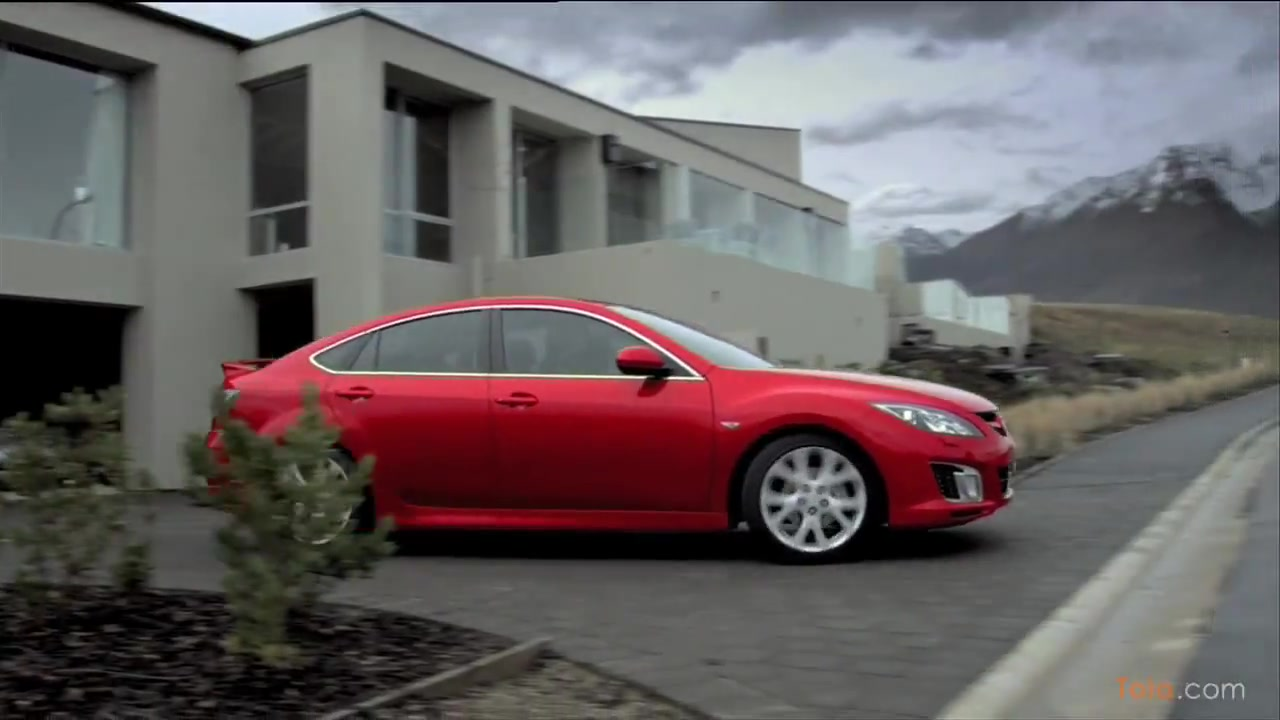car: (203, 291, 1019, 571)
